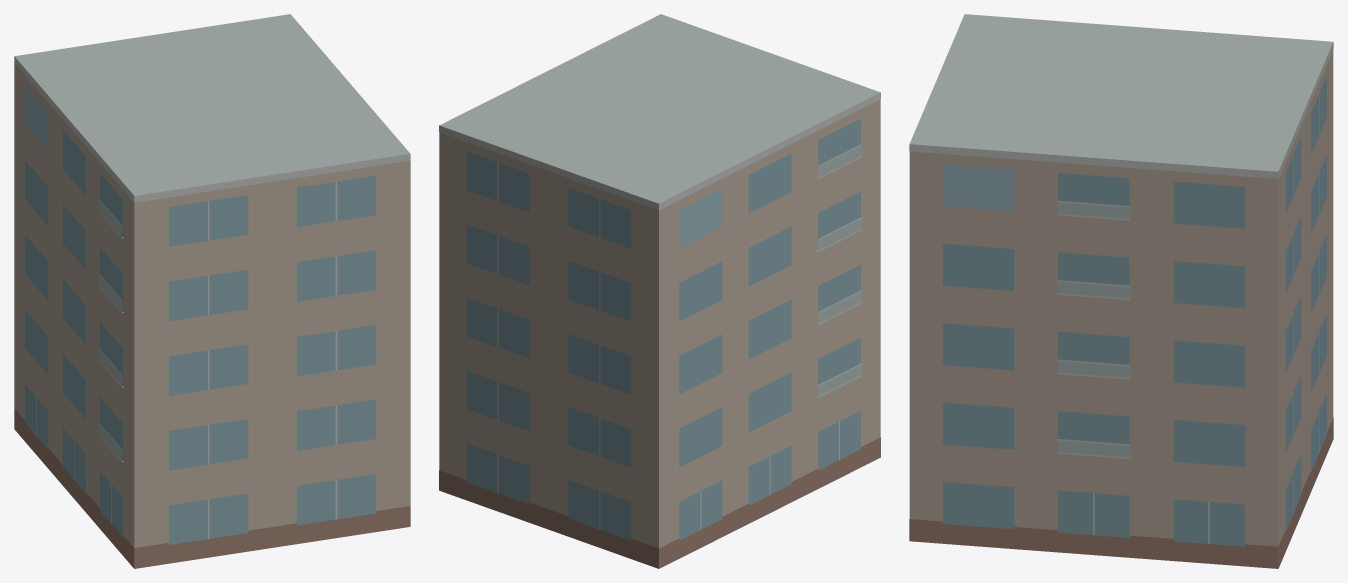
File: survey-upis-32899594.glb
The picture shows the model from 3 angles, left to right: view 1: azimuth 30°, elevation 25°; view 2: azimuth 150°, elevation 25°; view 3: azimuth 270°, elevation 25°; orthographic projection. The views are drawn at different scales.
Visible parts, largest first — view 1: survey-upis-32899594.tmp; view 2: survey-upis-32899594.tmp; view 3: survey-upis-32899594.tmp.
Boxes of the visible parts, x1,y1,x2,y2 form: survey-upis-32899594.tmp: (14, 14, 410, 568); survey-upis-32899594.tmp: (439, 14, 880, 568); survey-upis-32899594.tmp: (909, 14, 1333, 568).
Bounding box in the file's own units: 11.34 × 13.3 × 12.88.
